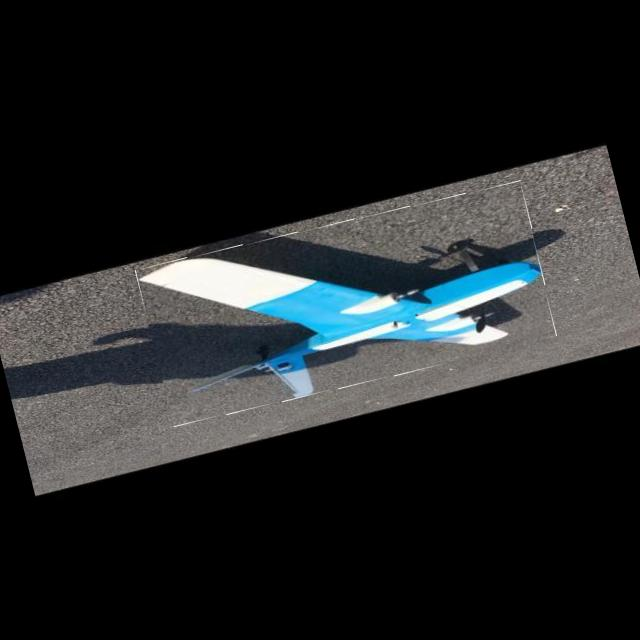UAV: (133, 177, 554, 430)
